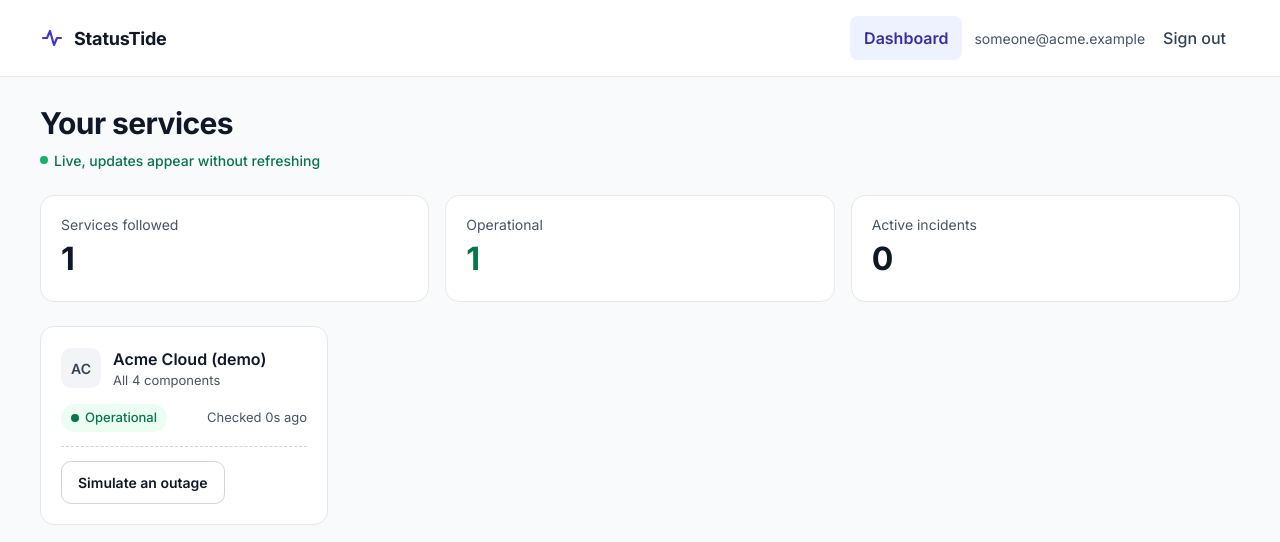
App › signs out and falls back to the guest prompt
Click the button "Sign out".
click(1195, 38)  # box [1149,16,1240,60]
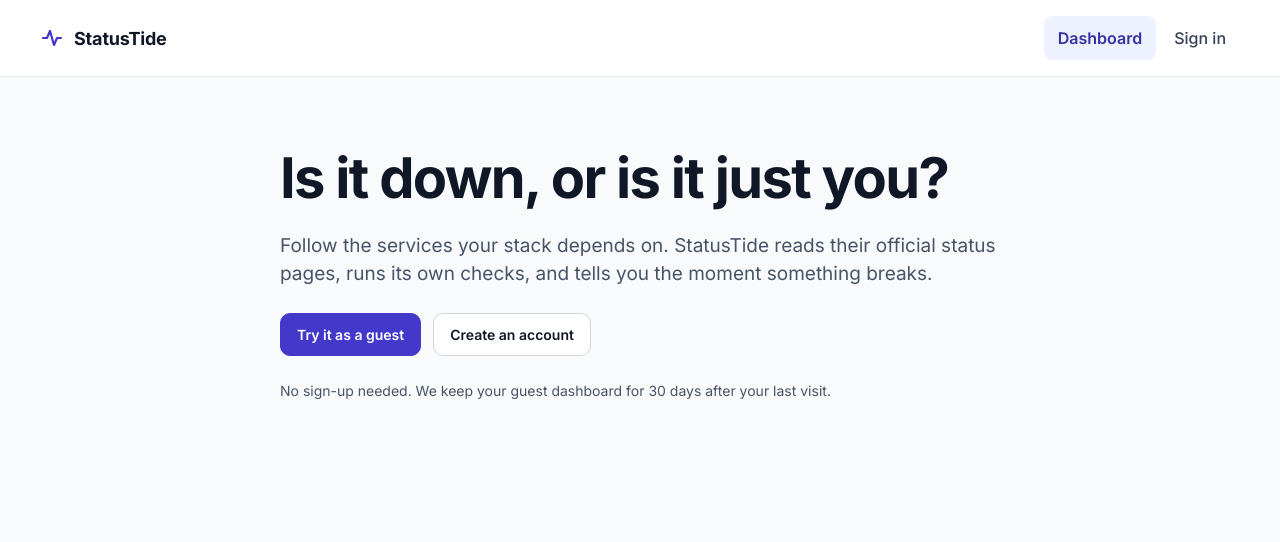
Expected: the button "Try it as a guest" is shown, [280,313,421,356]
